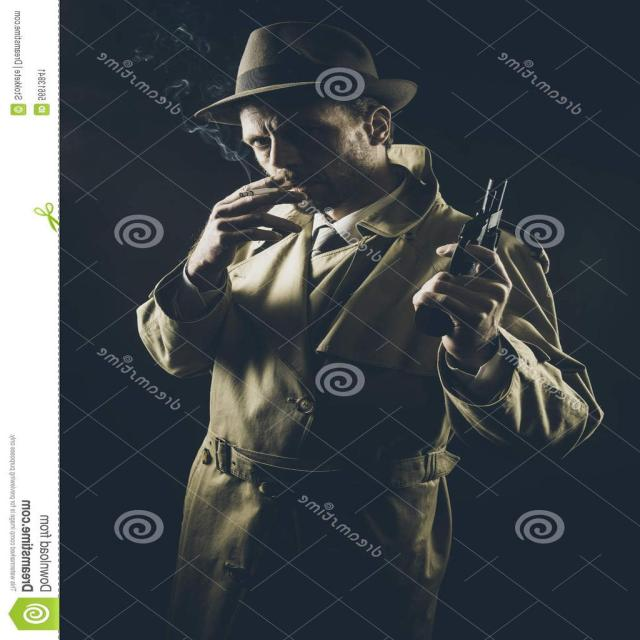smoking: (208, 7, 442, 236)
